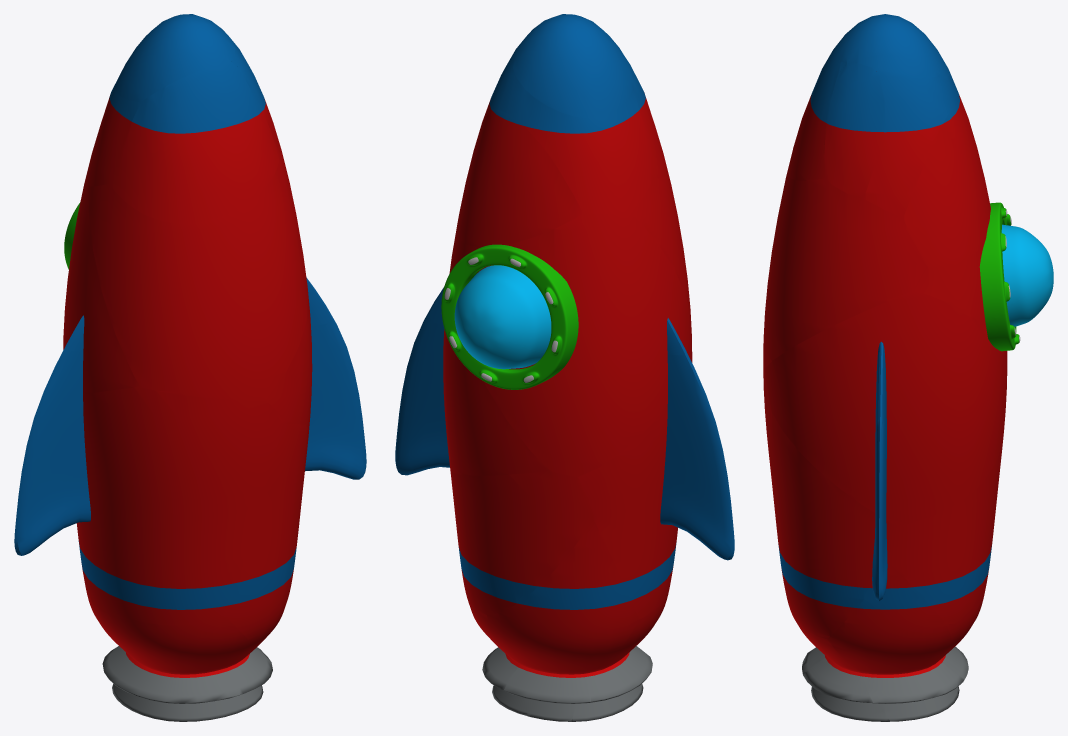
The model's file is Ship Red Fractured.fbx.
3 renders of one model, left to right at view 1: azimuth 30°, elevation 25°; view 2: azimuth 150°, elevation 25°; view 3: azimuth 270°, elevation 25°, orthographic.
Parts seen in each view (by area): view 1: Cube.000_shard.006, Cube.000_shard, Cube.000_shard.011, Fins, Cube.000_shard.014, Cube.000_shard.005, Cube.000_shard.009, Cube.000_shard.008, Cube.000_shard.007, Cube.000_shard.001, Cube.000_shard.003, Cube.000_shard.010; view 2: Cube.000_shard.009, Fins, Cube.000_shard.004, Window, Cube.000_shard.002, Cube.000_shard.001, Cube.000_shard.013, Cube.000_shard.006, Cube.000_shard.008, Cube.000_shard.007, Cube.000_shard.014, Cube.000_shard (+2 smaller); view 3: Cube.000_shard.007, Cube.000_shard, Cube.000_shard.005, Cube.000_shard.012, Cube.000_shard.002, Cube.000_shard.013, Cube.000_shard.001, Window, Cube.000_shard.010, Cube.000_shard.008, Cube.000_shard.003, Cube.000_shard.011 (+4 smaller).
Part boxes in pixels (x1=…): Cube.000_shard.006: x1=76, y1=387, x2=282, y2=624; Cube.000_shard: x1=88, y1=152, x2=308, y2=399; Cube.000_shard.011: x1=110, y1=62, x2=279, y2=223; Fins: x1=14, y1=277, x2=366, y2=555; Cube.000_shard.014: x1=91, y1=602, x2=247, y2=721; Cube.000_shard.005: x1=226, y1=423, x2=308, y2=639; Cube.000_shard.009: x1=63, y1=173, x2=140, y2=394; Cube.000_shard.008: x1=115, y1=14, x2=235, y2=101; Cube.000_shard.007: x1=265, y1=296, x2=312, y2=429; Cube.000_shard.001: x1=87, y1=57, x2=238, y2=187; Cube.000_shard.003: x1=227, y1=618, x2=280, y2=714; Cube.000_shard.010: x1=234, y1=43, x2=281, y2=154; Cube.000_shard.009: x1=450, y1=213, x2=691, y2=477; Fins: x1=395, y1=287, x2=734, y2=560; Cube.000_shard.004: x1=467, y1=520, x2=638, y2=721; Window: x1=441, y1=244, x2=578, y2=389; Cube.000_shard.002: x1=450, y1=470, x2=593, y2=615; Cube.000_shard.001: x1=479, y1=48, x2=652, y2=213; Cube.000_shard.013: x1=456, y1=110, x2=582, y2=247; Cube.000_shard.006: x1=579, y1=338, x2=692, y2=619; Cube.000_shard.008: x1=512, y1=14, x2=633, y2=117; Cube.000_shard.007: x1=443, y1=266, x2=548, y2=475; Cube.000_shard.014: x1=571, y1=591, x2=668, y2=721; Cube.000_shard: x1=631, y1=173, x2=691, y2=322; Cube.000_shard.007: x1=765, y1=291, x2=1006, y2=525; Cube.000_shard: x1=763, y1=171, x2=926, y2=368; Cube.000_shard.005: x1=770, y1=411, x2=896, y2=638; Cube.000_shard.012: x1=827, y1=565, x2=964, y2=721; Cube.000_shard.002: x1=892, y1=435, x2=1003, y2=623; Cube.000_shard.013: x1=903, y1=104, x2=990, y2=267; Cube.000_shard.001: x1=839, y1=61, x2=963, y2=217; Window: x1=979, y1=202, x2=1053, y2=351; Cube.000_shard.010: x1=824, y1=63, x2=883, y2=197; Cube.000_shard.008: x1=836, y1=14, x2=950, y2=76; Cube.000_shard.003: x1=795, y1=620, x2=889, y2=721; Cube.000_shard.011: x1=787, y1=45, x2=840, y2=180.
Size of the model in its own units: 303 by 563 by 220.
